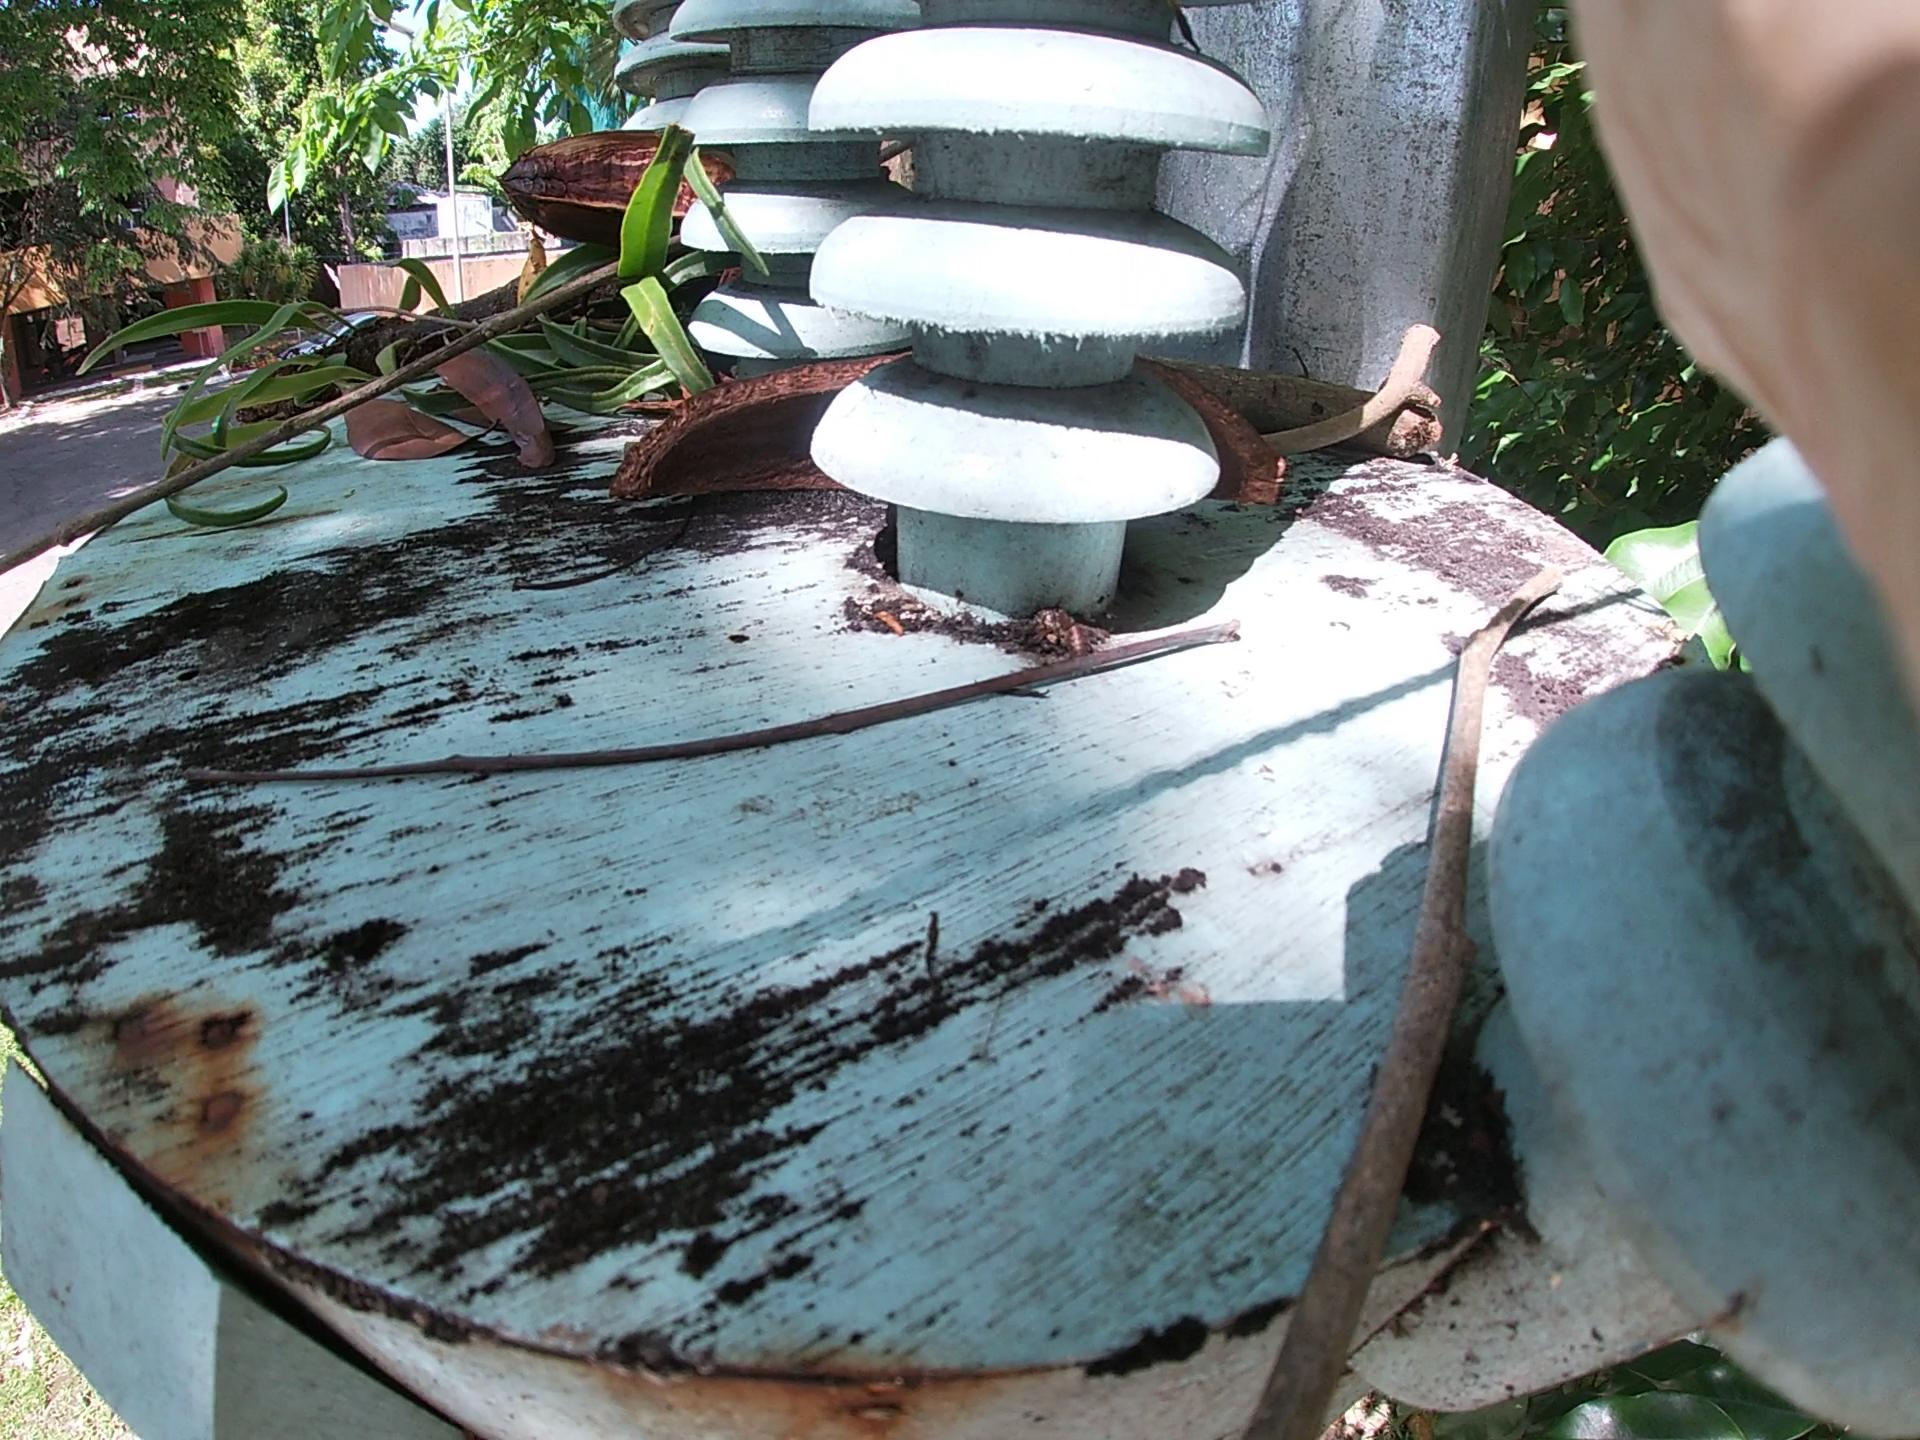branch with leaves: (122, 73, 797, 492)
tree branch: (1299, 293, 1639, 1331), (57, 154, 915, 549), (97, 607, 1209, 787), (1303, 216, 1479, 504)
